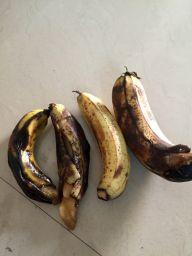banana: (110, 64, 192, 185), (70, 89, 133, 203), (45, 101, 94, 233), (5, 107, 64, 207)
